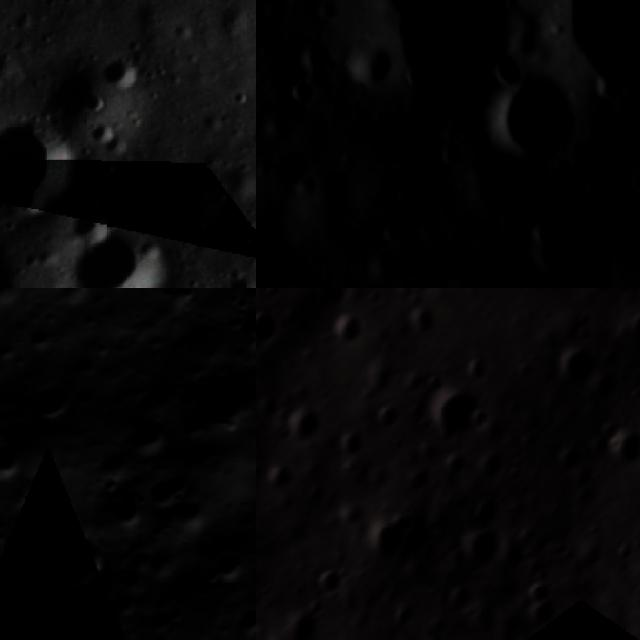crater: (484, 66, 599, 176), (34, 518, 135, 619), (508, 190, 611, 288), (170, 356, 256, 454), (0, 122, 81, 207), (84, 233, 169, 288), (21, 370, 86, 435), (140, 456, 203, 521), (126, 402, 189, 466), (426, 388, 489, 448), (336, 34, 396, 95), (286, 25, 346, 80), (100, 482, 158, 538), (363, 511, 418, 569), (484, 44, 538, 96), (206, 541, 256, 595), (275, 72, 328, 119), (554, 345, 604, 393), (406, 165, 456, 212), (0, 432, 36, 492), (462, 528, 504, 575), (496, 530, 538, 574), (219, 592, 256, 640), (284, 402, 320, 444), (153, 288, 204, 316), (364, 358, 401, 396), (403, 300, 440, 338), (258, 459, 294, 495), (279, 607, 317, 640), (468, 495, 502, 531), (616, 426, 640, 477), (528, 596, 563, 630), (329, 313, 362, 348), (333, 427, 367, 459), (312, 564, 339, 602), (371, 402, 402, 435), (256, 309, 284, 345), (521, 579, 554, 607), (315, 288, 350, 314), (106, 63, 140, 89), (242, 317, 256, 379), (626, 306, 640, 359), (91, 625, 137, 640), (470, 402, 493, 432), (535, 632, 578, 640), (265, 288, 285, 302), (413, 288, 434, 295)
